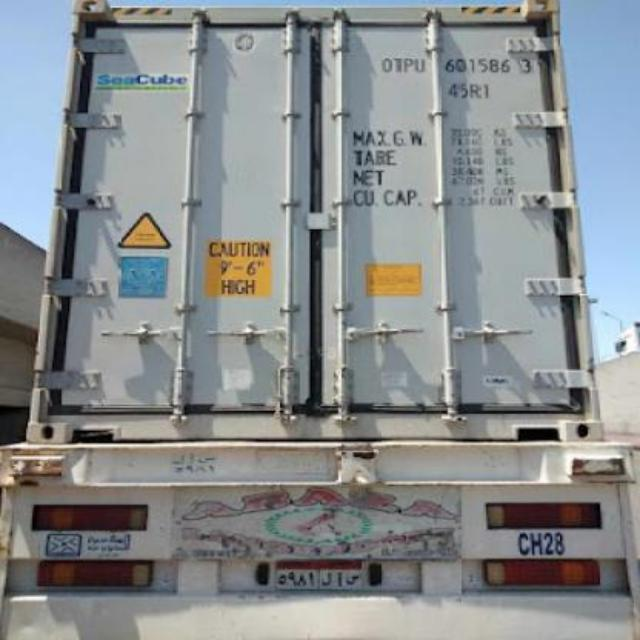0: (454, 51, 466, 75)
1: (464, 50, 476, 78)
3: (520, 56, 536, 76)
5: (478, 46, 488, 82)
6: (442, 51, 454, 75), (502, 52, 512, 80)
8: (488, 50, 500, 84)
O: (376, 54, 394, 76)
P: (402, 52, 412, 78)
T: (392, 42, 404, 80)
U: (412, 52, 426, 78)
